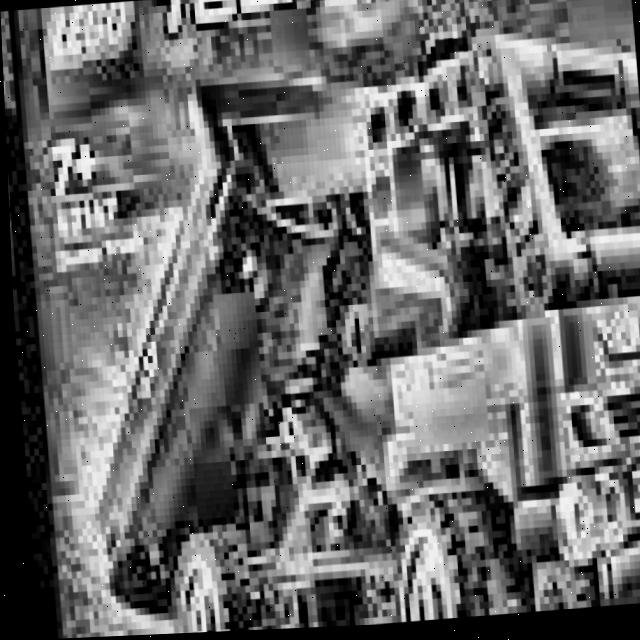dump_truck: (67, 29, 640, 638)
